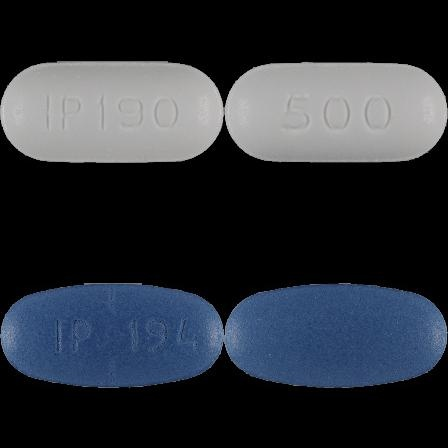50436-6609: (0, 0, 224, 224)
